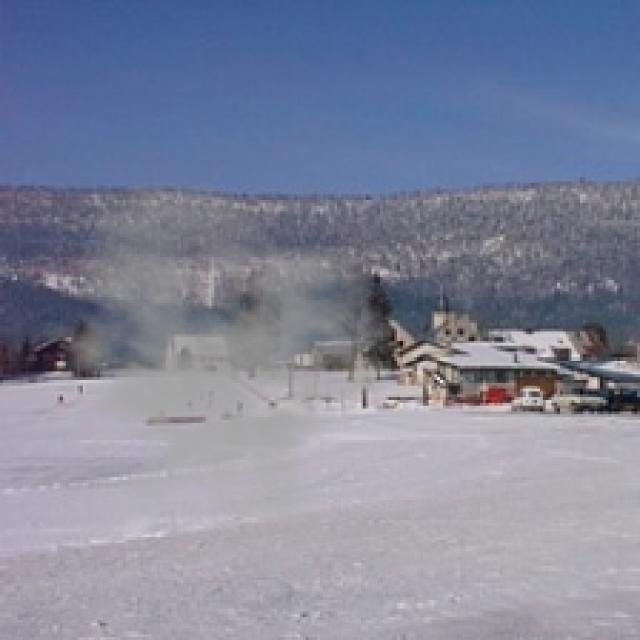smoke: (23, 177, 411, 529)
